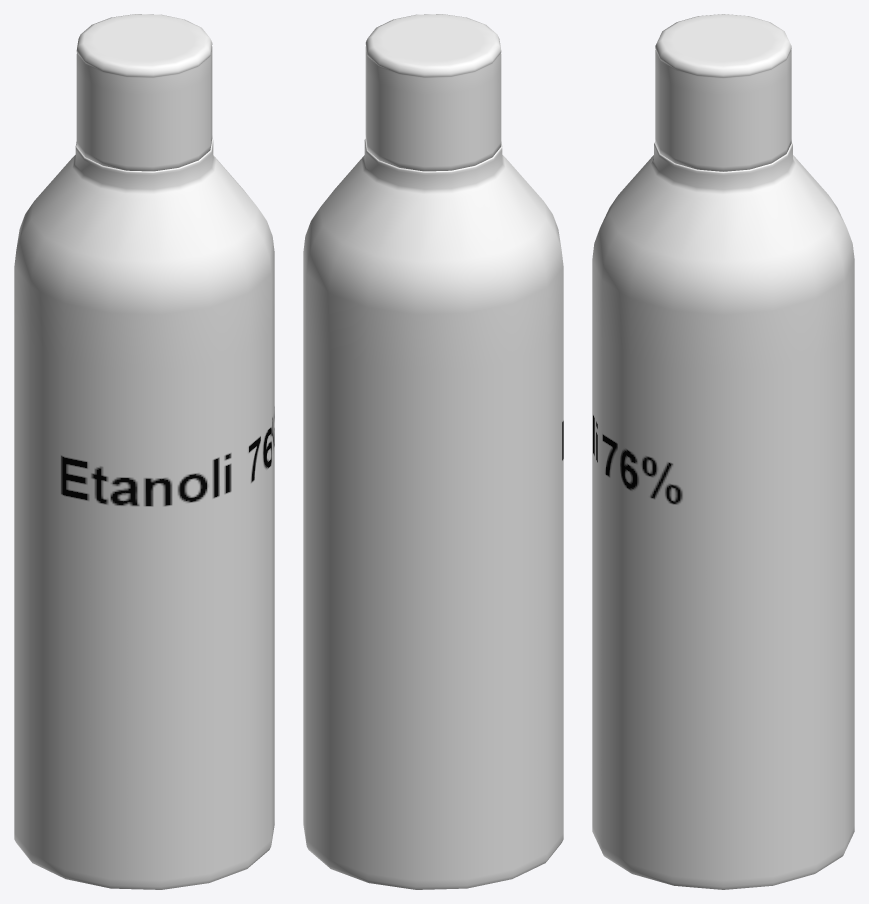
The model's file is ethanol_bottle.fbx.
3 renders of one model, left to right at view 1: azimuth 30°, elevation 25°; view 2: azimuth 150°, elevation 25°; view 3: azimuth 270°, elevation 25°, orthographic.
Parts seen in each view (by area): view 1: ethanol_bottle; view 2: ethanol_bottle; view 3: ethanol_bottle.
Boxes of the visible parts, <box> form: ethanol_bottle: <box>14,14,274,889</box>; ethanol_bottle: <box>303,14,563,889</box>; ethanol_bottle: <box>592,14,854,889</box>.
Bounding box in the file's own units: 6 × 20.1 × 6.
